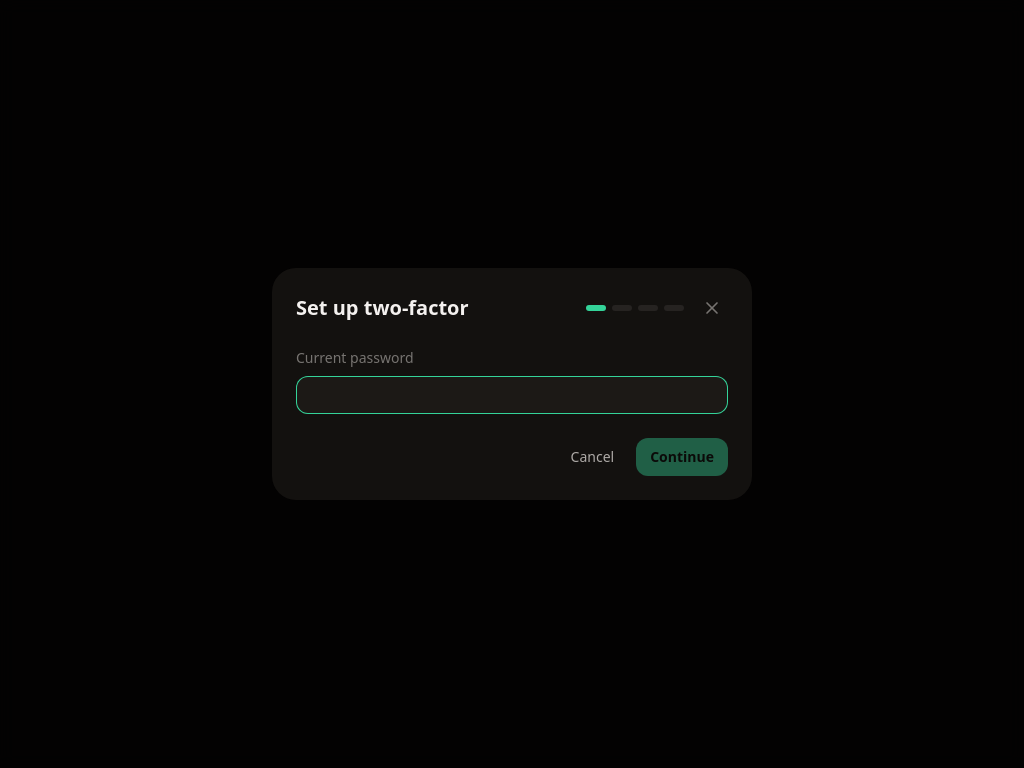
Test: TotpSetupModal › says when the password is wrong
The width and height of the screenshot is (1024, 768).
Type "nope" into the password field labelled "Current password" at [512, 395], box [296, 376, 728, 414]
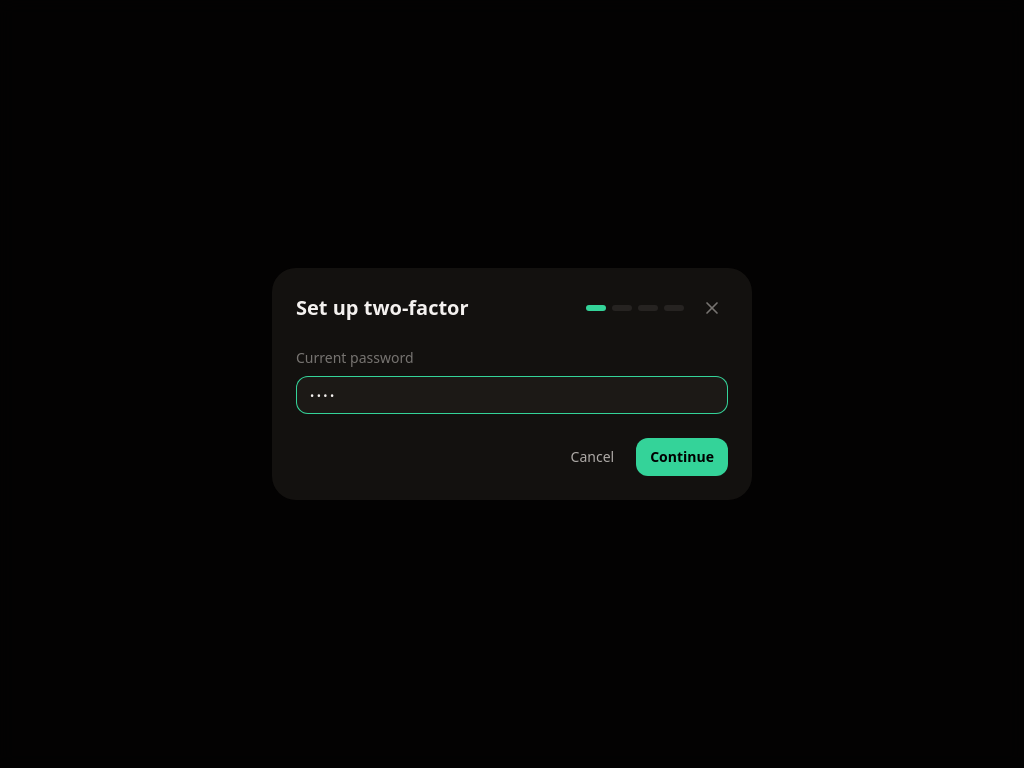
Click the button "Continue" at [682, 457], box [636, 438, 728, 476]
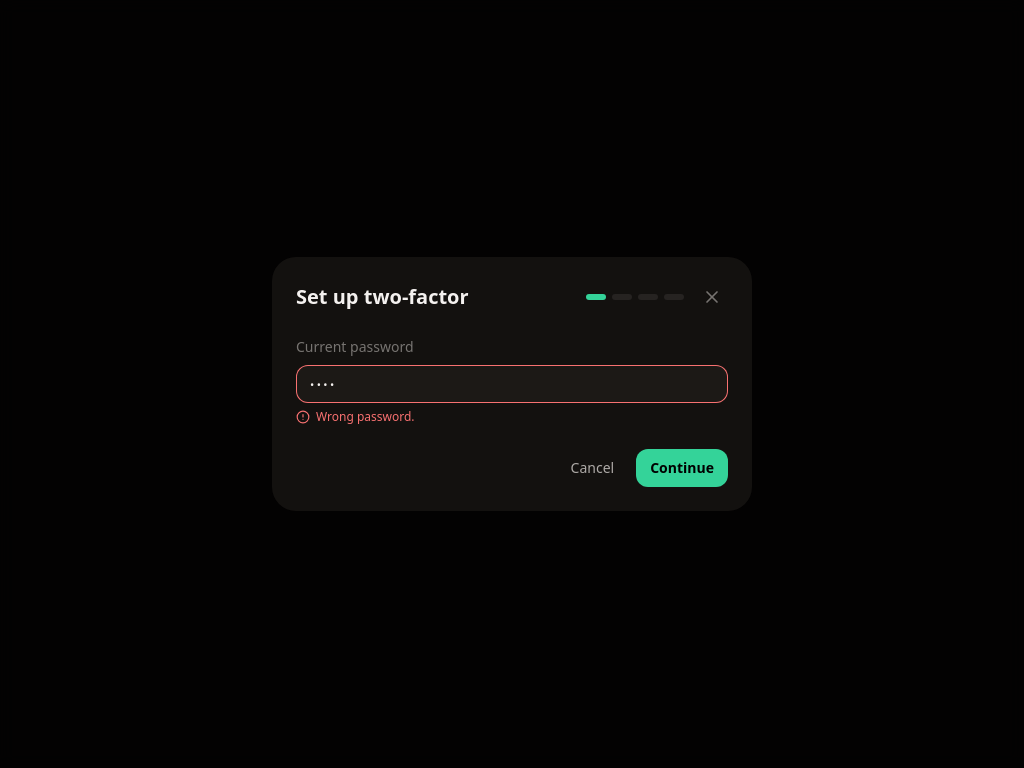
Result: the text "Wrong password." is shown at [296, 408, 414, 425]
